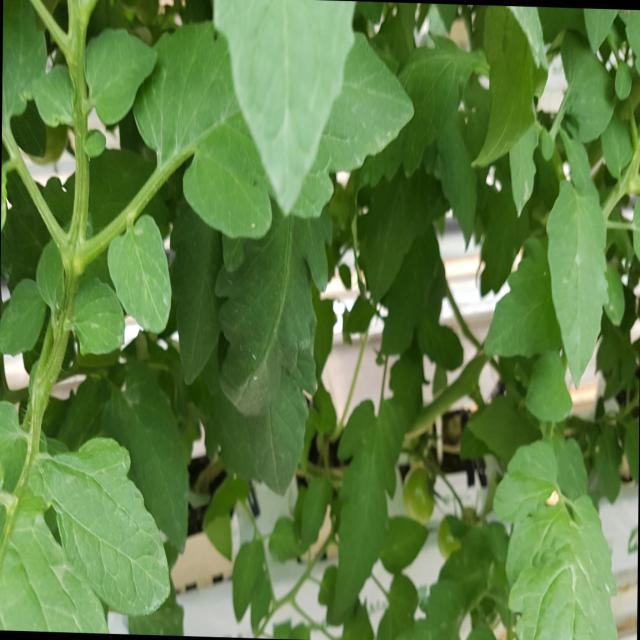Healthy Leaf: (483, 433, 624, 640), (38, 422, 184, 616), (546, 159, 619, 389), (107, 197, 180, 341), (80, 28, 159, 131)
